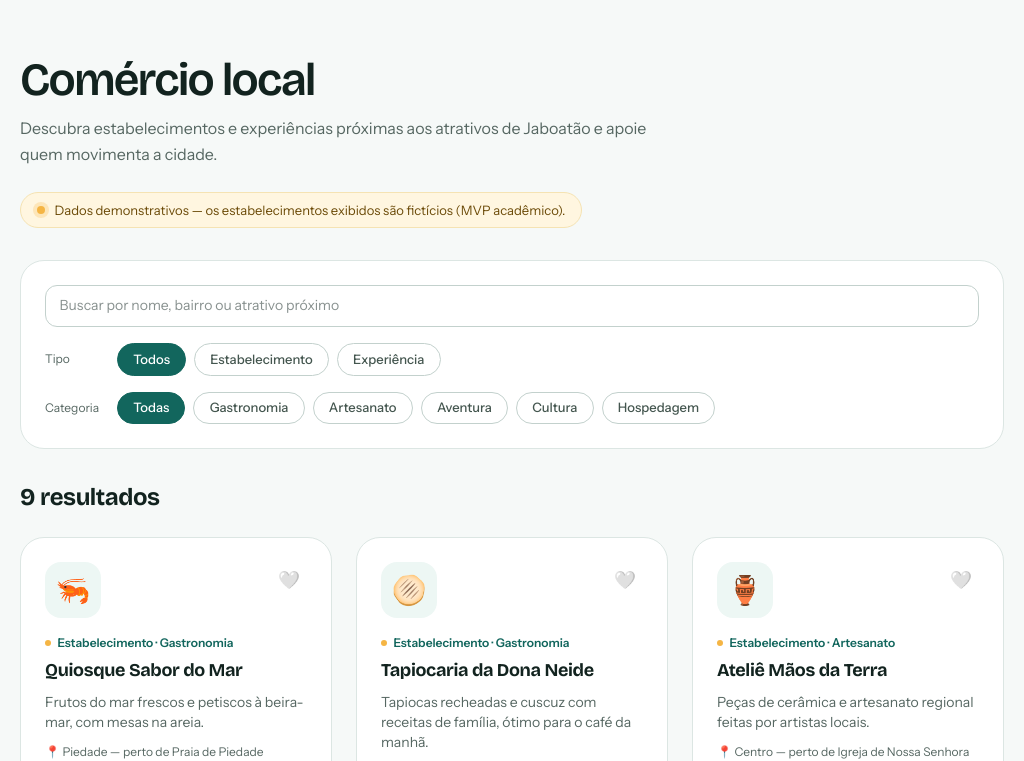
Test: Tela de Comércio local › avisa quando nada é encontrado
The image size is (1024, 761).
Type "xyzxyz" into the field with placeholder "Buscar por nome, bairro ou atrativo próximo" at (512, 306), box [45,285,979,327]
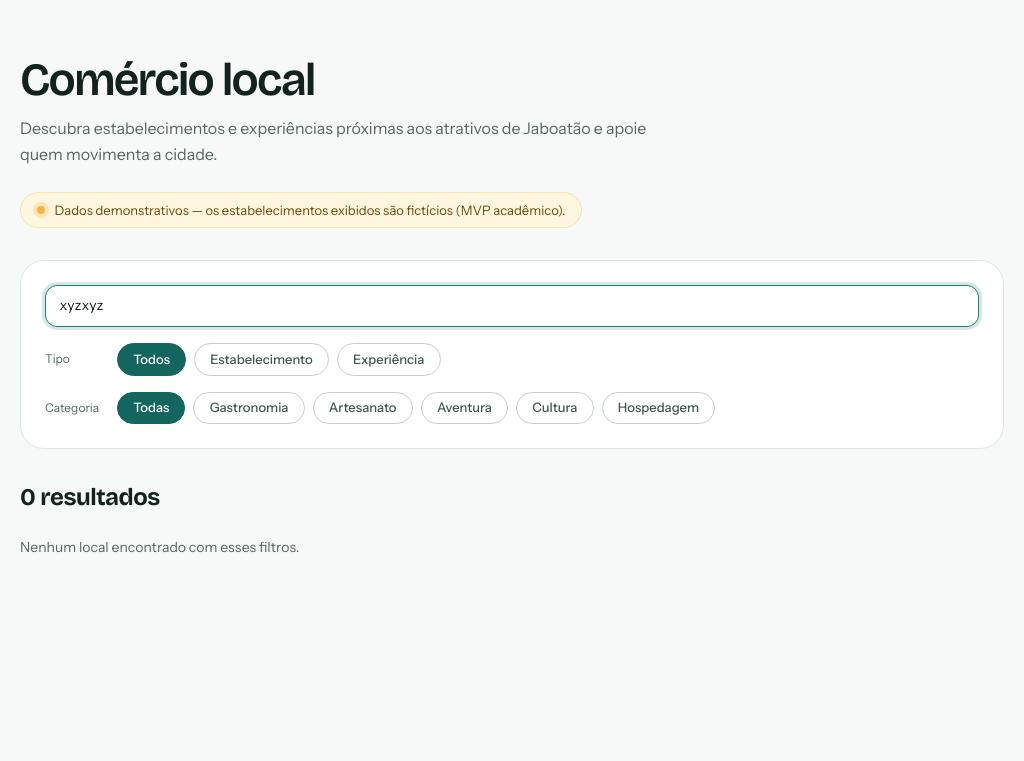
Expected: the text "Nenhum local encontrado com esses filtros." is shown, [20,538,299,556]
